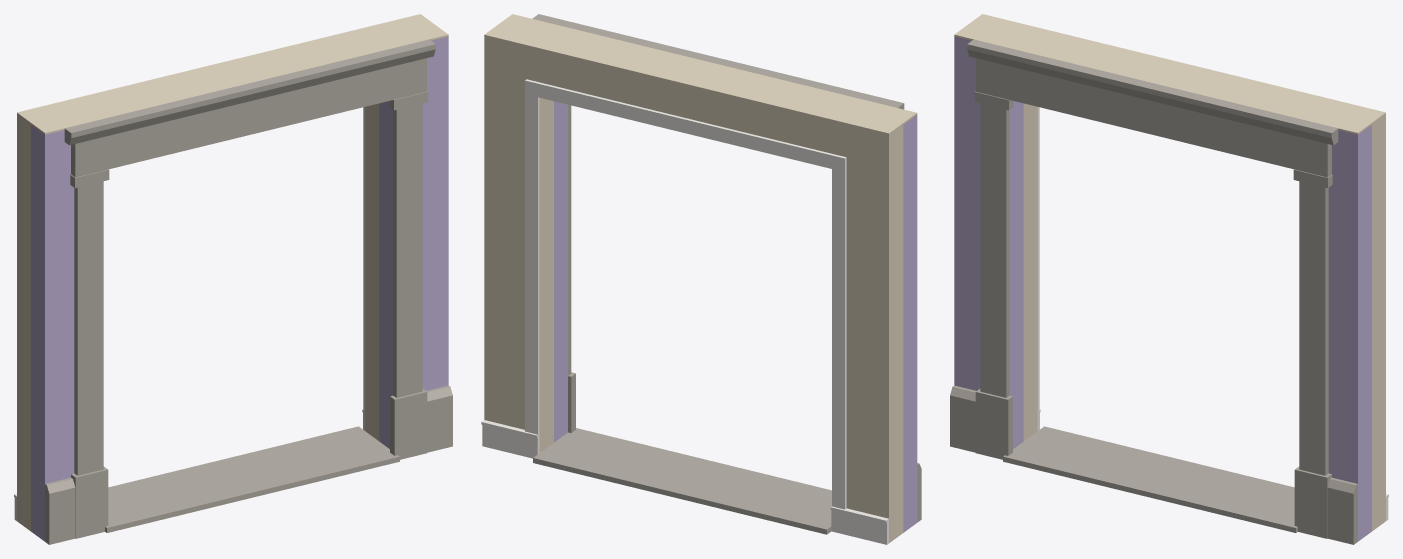
The model's file is wall-doorway.glb.
The picture shows the model from 3 angles, left to right: view 1: azimuth 30°, elevation 25°; view 2: azimuth 150°, elevation 25°; view 3: azimuth 330°, elevation 25°; orthographic projection.
Visible parts, largest first — view 1: wall-doorway; view 2: wall-doorway; view 3: wall-doorway.
Boxes of the visible parts, <box> form: wall-doorway: <box>14,14,452,544</box>; wall-doorway: <box>481,14,921,544</box>; wall-doorway: <box>950,14,1388,544</box>.
Size of the model in its own units: 2.48 by 2.4 by 0.44.
